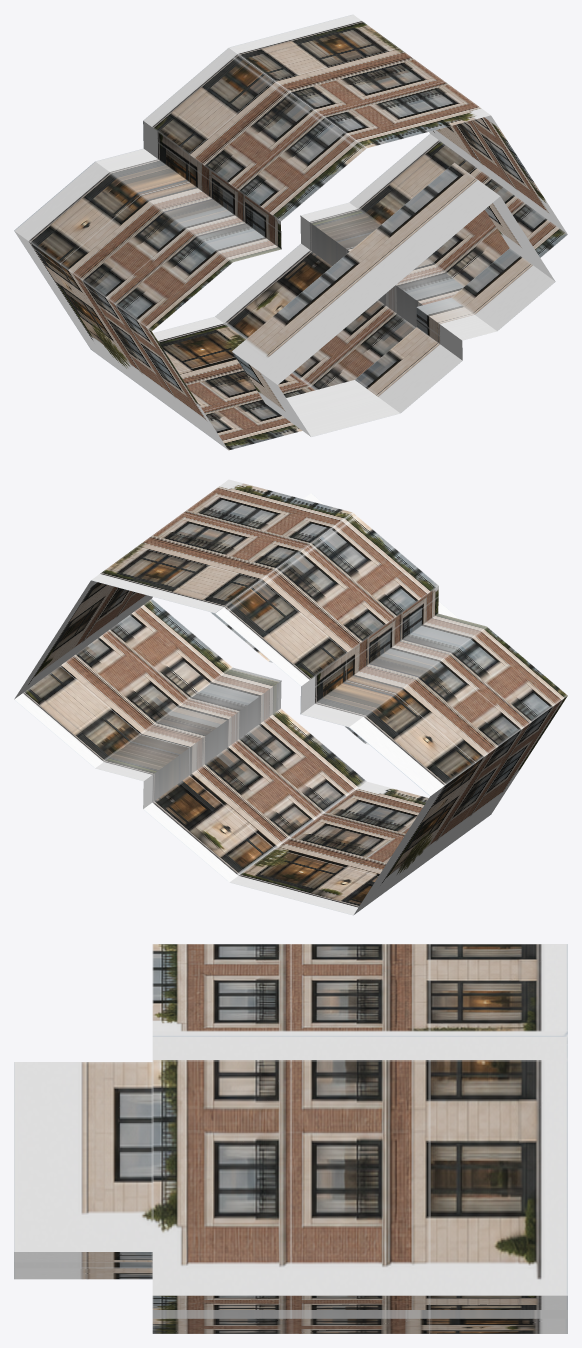
3 views of the same model, one above another, from view 1: azimuth 30°, elevation 25°; view 2: azimuth 150°, elevation 25°; view 3: azimuth 270°, elevation 25° (orthographic). The views are drawn at different scales.
Visible parts, largest first — view 1: MAAS textured facade mesh; view 2: MAAS textured facade mesh; view 3: MAAS textured facade mesh.
Boxes of the visible parts, x1=… form: MAAS textured facade mesh: x1=14, y1=14, x2=567, y2=450; MAAS textured facade mesh: x1=14, y1=479, x2=567, y2=915; MAAS textured facade mesh: x1=14, y1=944, x2=567, y2=1333.
Bounding box in the file's own units: 14.64 × 9.11 × 11.2.
Materials: 1 (1 with a texture image).
